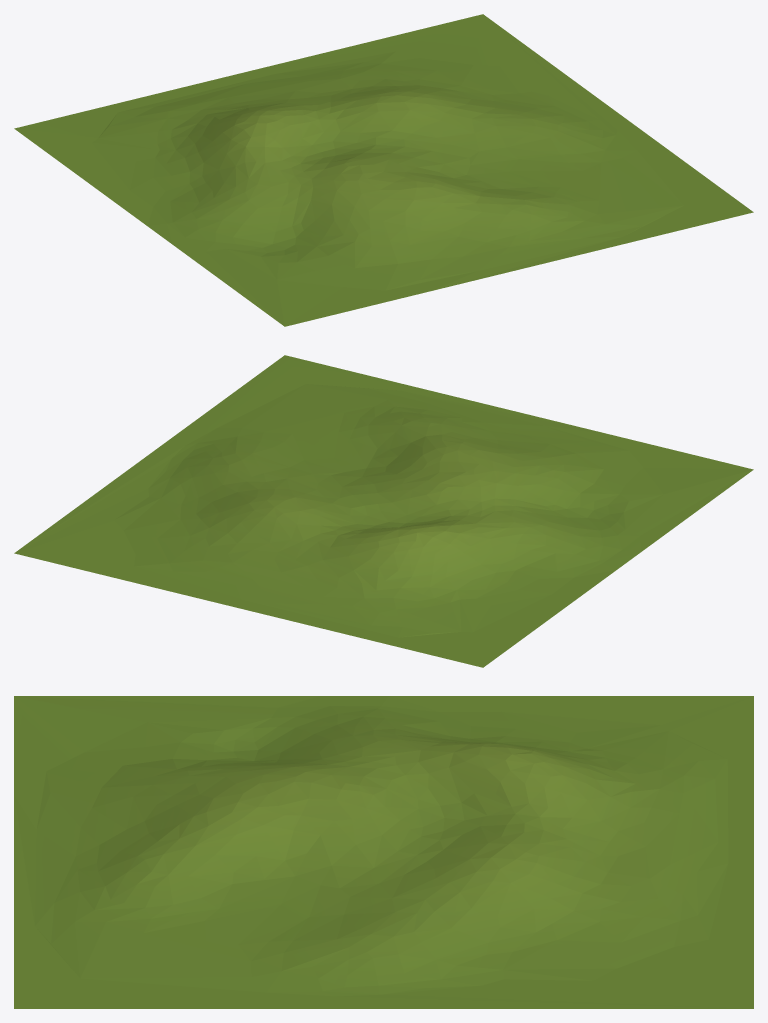
The model's file is Terrain_09.glb.
The picture shows the model from 3 angles, top to bottom: view 1: azimuth 30°, elevation 25°; view 2: azimuth 150°, elevation 25°; view 3: azimuth 270°, elevation 25°; orthographic projection. The views are drawn at different scales.
Visible parts, largest first — view 1: Terrain_09; view 2: Terrain_09; view 3: Terrain_09.
Boxes of the visible parts, x1,y1,x2,y2 form: Terrain_09: [14, 14, 753, 326]; Terrain_09: [14, 355, 753, 667]; Terrain_09: [14, 696, 753, 1008].
Size of the model in its own units: 128 by 8.97 by 128.
1 material, 1 textured.
